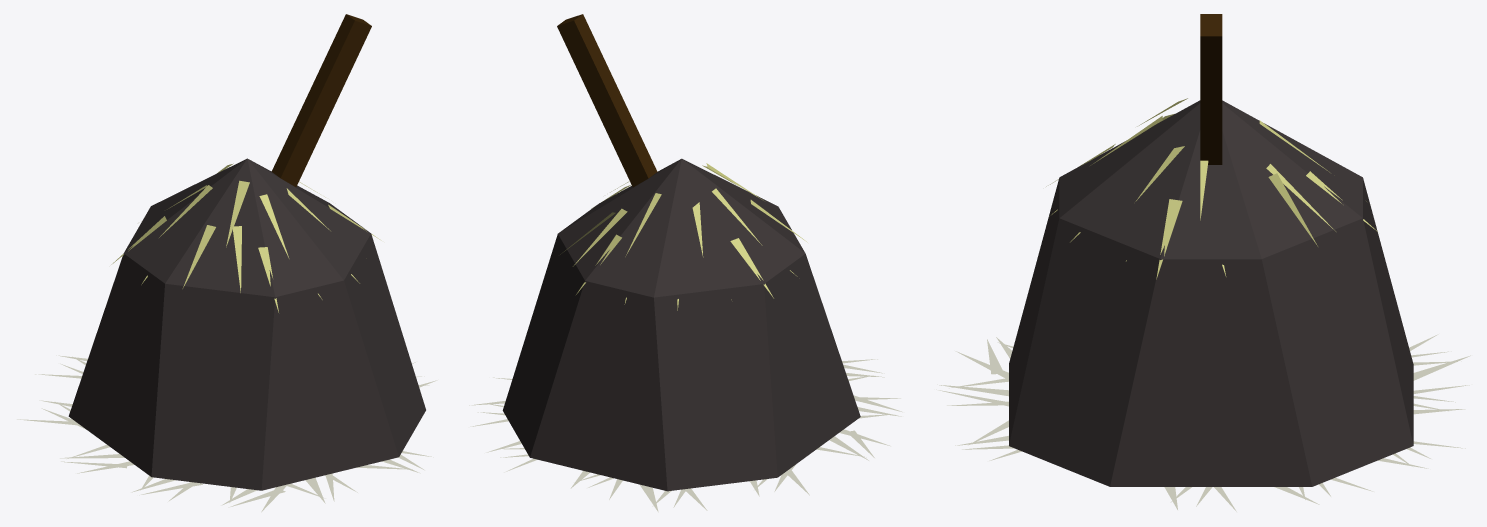
File: obj_haystack_0.obj
3 views of the same model, side by side, from view 1: azimuth 30°, elevation 25°; view 2: azimuth 150°, elevation 25°; view 3: azimuth 270°, elevation 25° (orthographic). The views are drawn at different scales.
Bounding box in the file's own units: 1.87 × 1.77 × 1.91.
